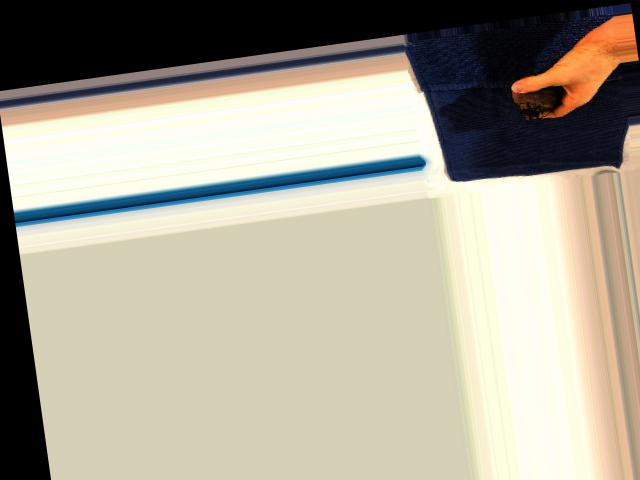beet: (506, 52, 566, 121)
